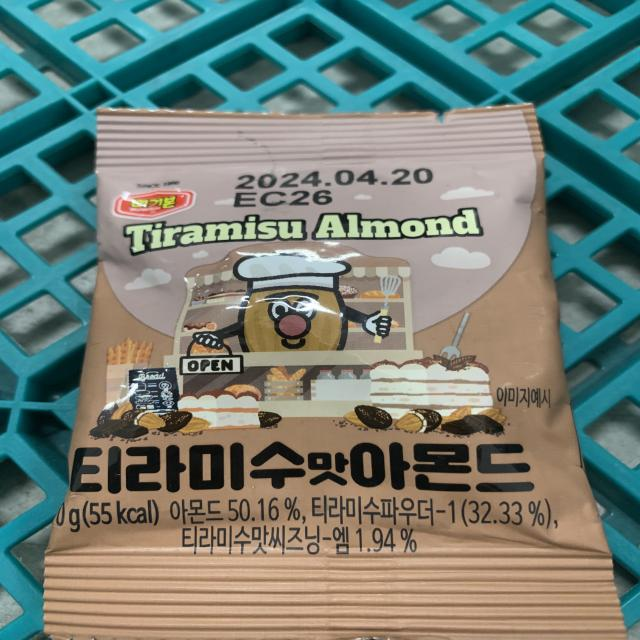object_name: (95, 113, 575, 640)
